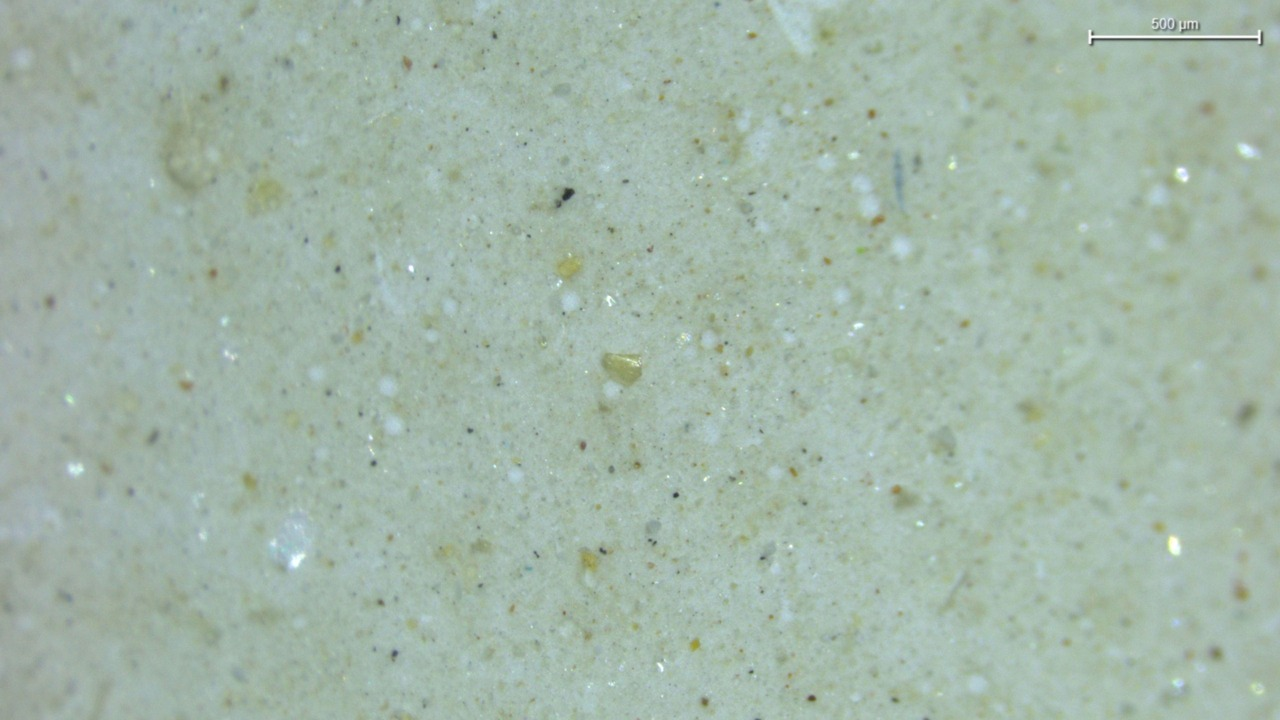microplastic_fragment: (602, 352, 642, 386)
